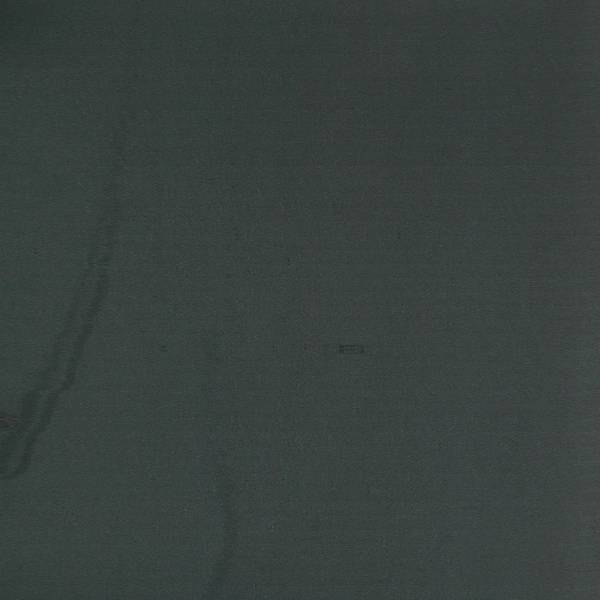road_damage: (332, 339, 373, 357)
